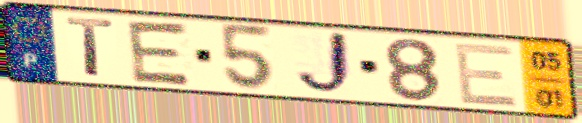5: (217, 21, 276, 95)
8: (382, 36, 444, 103)
E: (124, 18, 196, 89), (451, 41, 522, 110)
J: (292, 29, 357, 99)
T: (62, 14, 117, 80)
